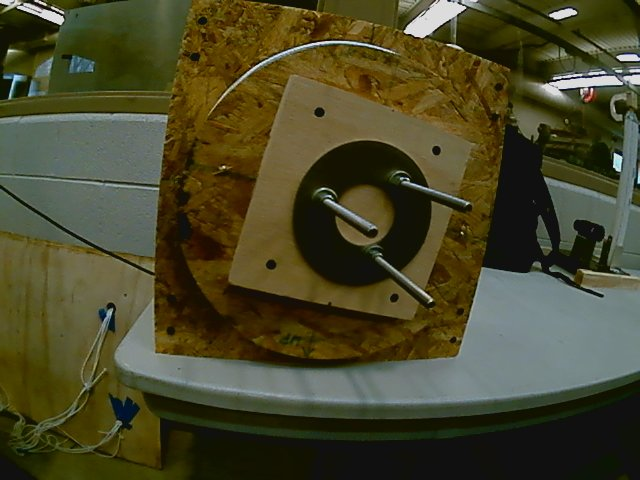bolt: (365, 225, 380, 240), (425, 299, 439, 313), (461, 200, 474, 215)
